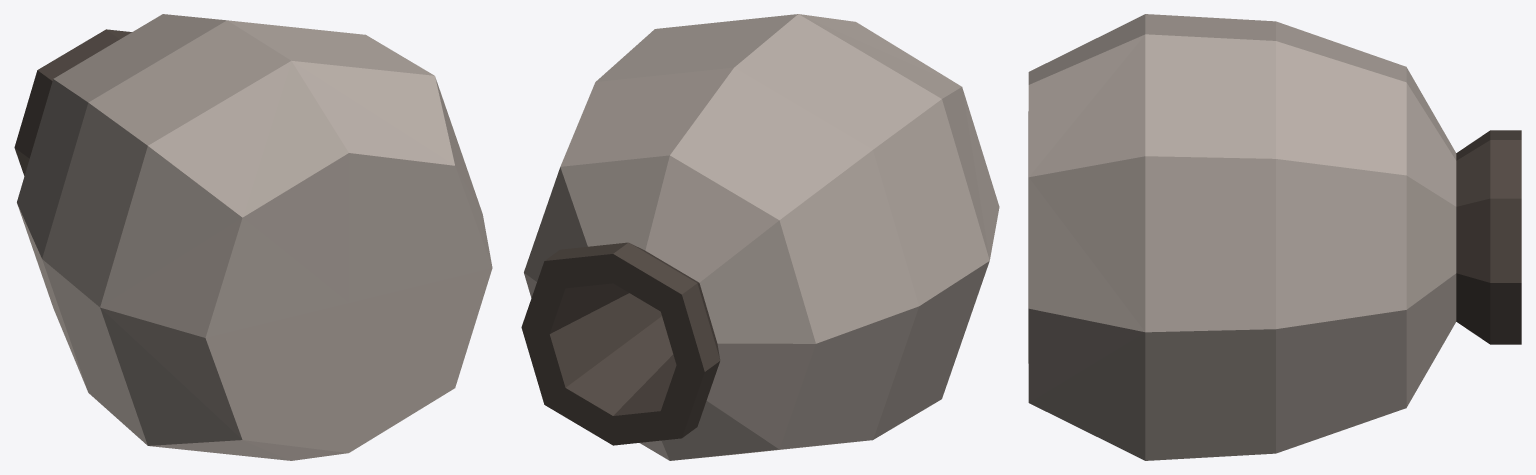
File: Urn 04.FBX
3 renders of one model, left to right at view 1: azimuth 30°, elevation 25°; view 2: azimuth 150°, elevation 25°; view 3: azimuth 270°, elevation 25°, orthographic.
Parts seen in each view (by area): view 1: Urn 04; view 2: Urn 04; view 3: Urn 04.
Boxes of the visible parts, box(x1,y1,x2,y2) form: Urn 04: box(14, 14, 492, 460); Urn 04: box(521, 14, 999, 460); Urn 04: box(1028, 14, 1521, 460).
Bounding box in the file's own units: 26.5 × 29.15 × 26.48.
